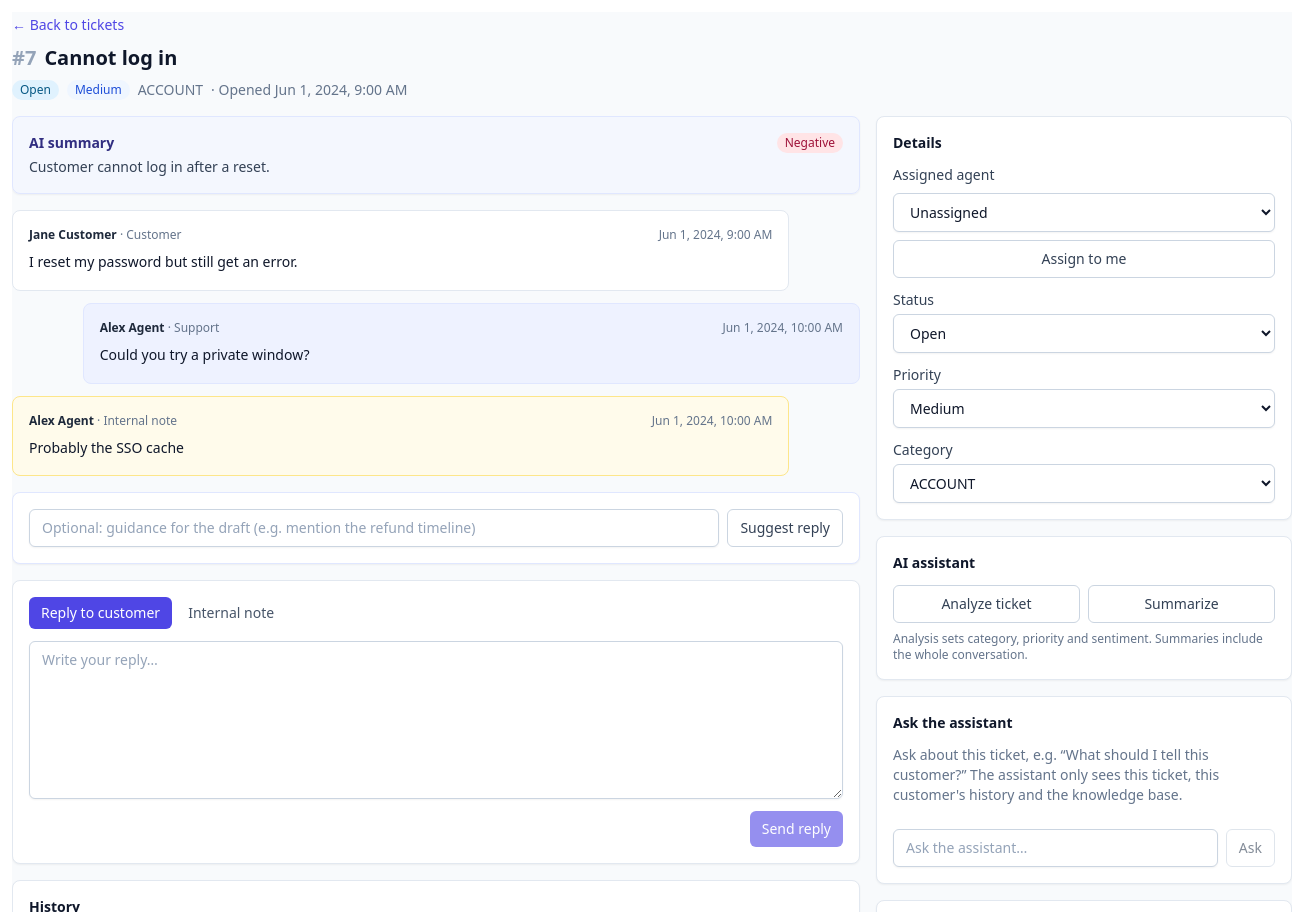
Test case: TicketDetailPage for agents › discards a suggestion without touching the reply box
Click the button "Suggest reply" at [785, 528], box [727, 509, 843, 547]
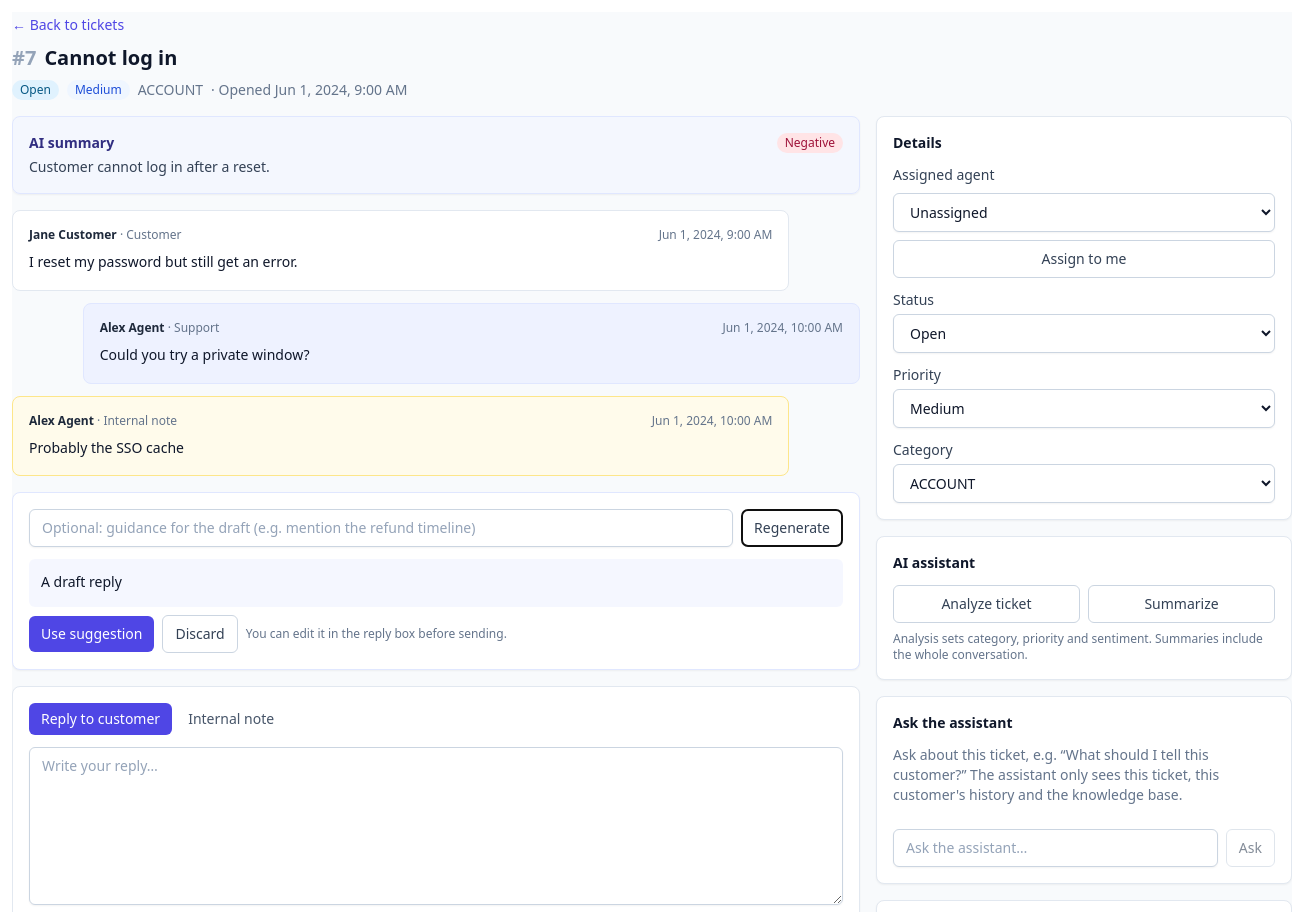
Check: the text "A draft reply" is shown, box [29, 559, 843, 607]
Click the button "Discard" at [200, 634], box [162, 615, 238, 653]
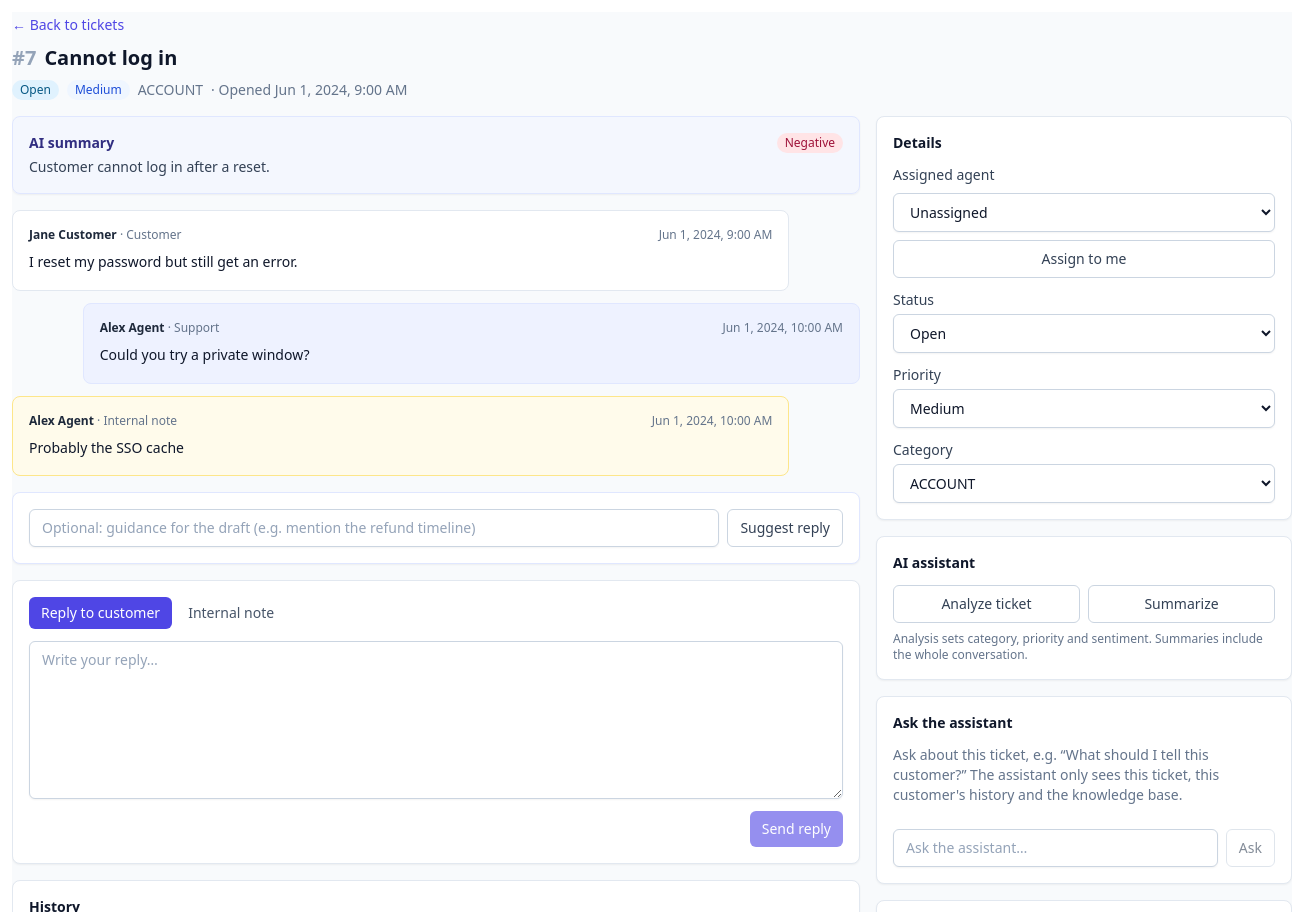
Check: the text box labelled "reply" is empty, box [29, 641, 843, 799]
Check: the text with test id "suggestion" is gone
